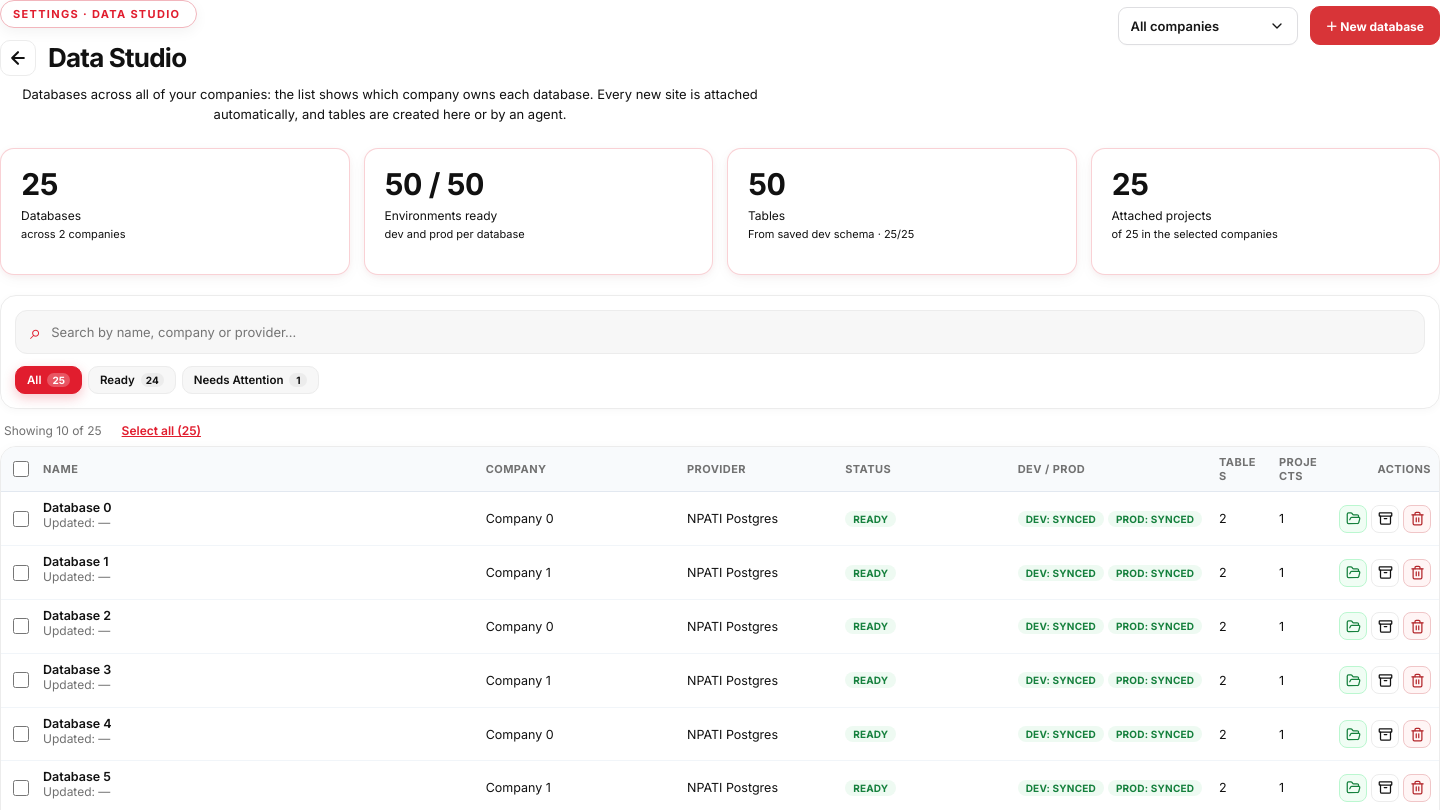
Test: keeps company summary cards unchanged through pending, rapid, and cached status-tab changes
Later steps or results of the test are not shown.
Click the tab "Ready 24".
click(132, 380)  # box 88,366 -> 176,394
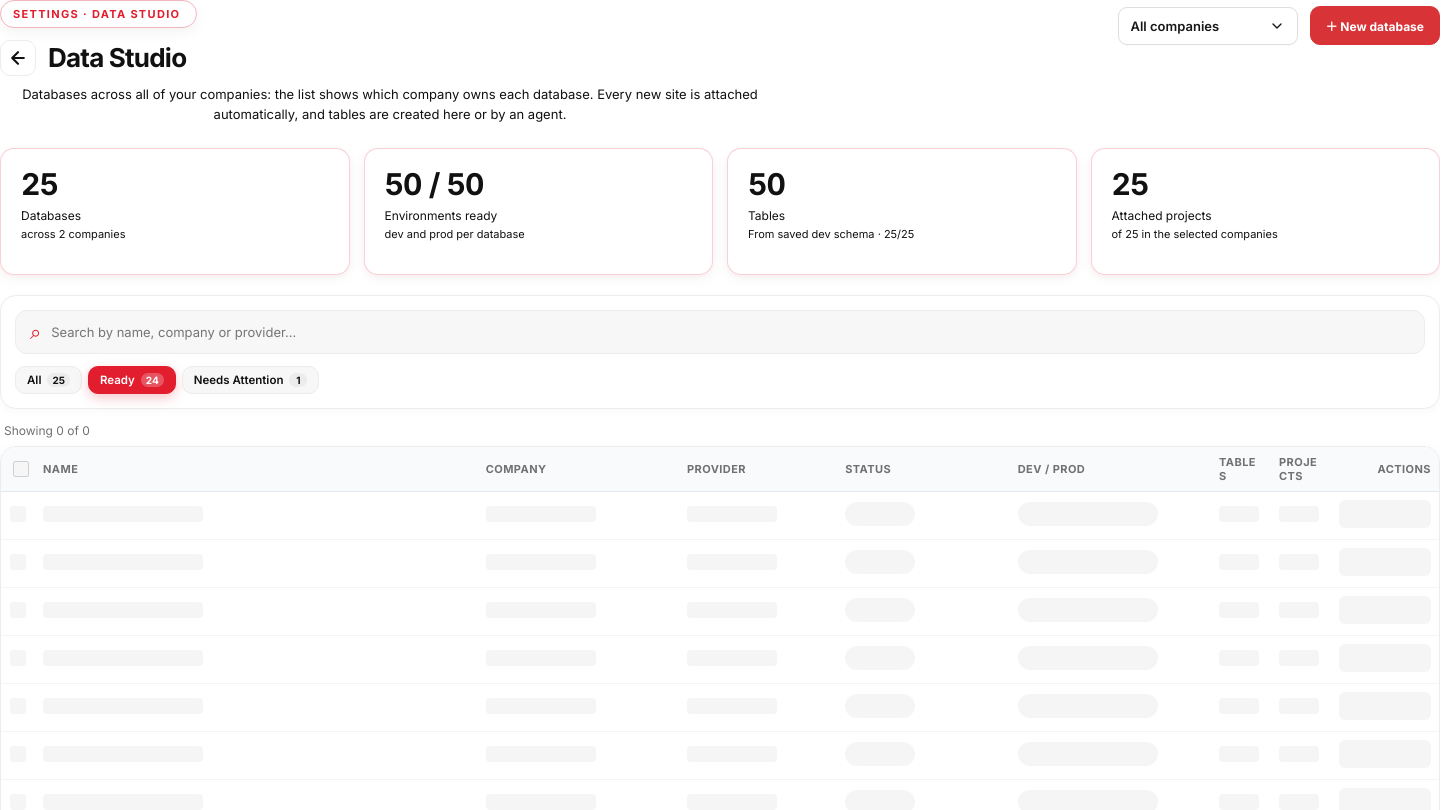
Check: the button with aria-label "Company" is shown, box 1118,6 -> 1298,44
Click the tab "Needs attention 1".
click(251, 380)  # box 182,366 -> 319,394
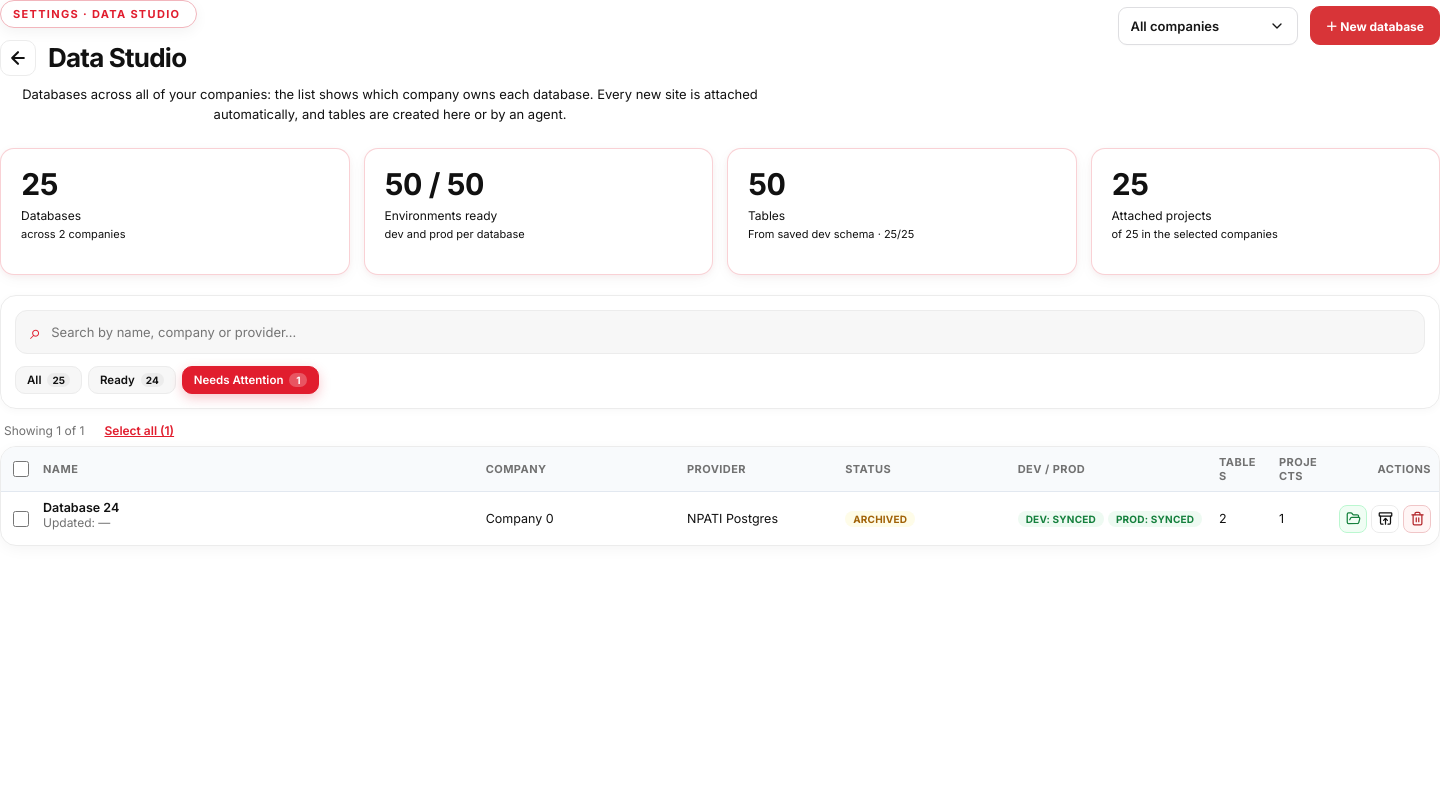
Check: the tab "Needs attention 1" is selected, box 182,366 -> 319,394
